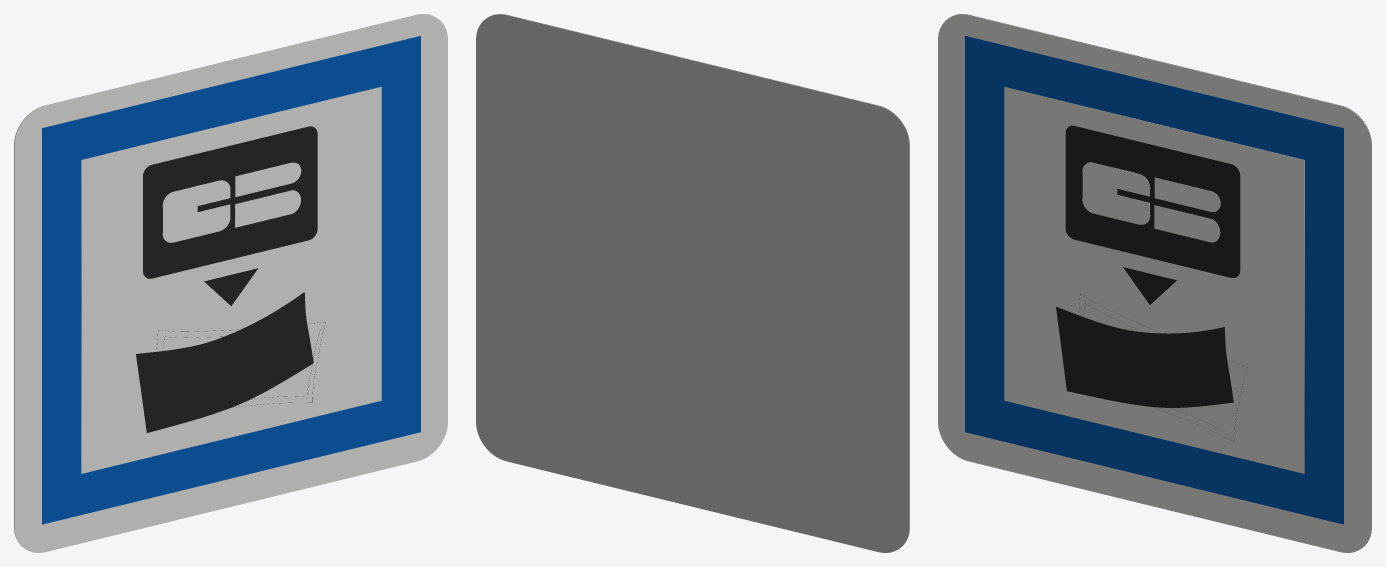
3 views of the same model, side by side, from view 1: azimuth 30°, elevation 25°; view 2: azimuth 150°, elevation 25°; view 3: azimuth 330°, elevation 25° (orthographic).
Visible parts, largest first — view 1: CE25_p02, CE25_p01, CE25_p00, CE25_p03, CE25_p12, CE25_p13, CE25_p15, CE25_p14, CE25_dos, CE25_p16; view 2: CE25_dos, CE25_p00; view 3: CE25_p02, CE25_p01, CE25_p00, CE25_p03, CE25_p12, CE25_p13, CE25_p15, CE25_p14, CE25_dos, CE25_p16.
Boxes of the visible parts, x1,y1,x2,y2 form: CE25_p02: [81, 87, 381, 473]; CE25_p01: [42, 36, 420, 524]; CE25_p00: [14, 14, 447, 552]; CE25_p03: [143, 126, 317, 278]; CE25_p12: [136, 292, 313, 432]; CE25_p13: [162, 180, 230, 242]; CE25_p15: [235, 190, 300, 227]; CE25_p14: [235, 162, 301, 196]; CE25_dos: [14, 14, 430, 546]; CE25_p16: [204, 268, 257, 305]; CE25_dos: [476, 14, 909, 552]; CE25_p00: [493, 14, 909, 546]; CE25_p02: [1004, 87, 1304, 473]; CE25_p01: [965, 36, 1343, 524]; CE25_p00: [938, 14, 1371, 552]; CE25_p03: [1065, 125, 1240, 277]; CE25_p12: [1056, 306, 1233, 407]; CE25_p13: [1082, 162, 1150, 224]; CE25_p15: [1154, 205, 1220, 242]; CE25_p14: [1154, 177, 1220, 211]; CE25_dos: [955, 14, 1371, 546]; CE25_p16: [1123, 267, 1176, 304].
Size of the model in its own units: 0.7 by 0.6889 by 0.0083.
